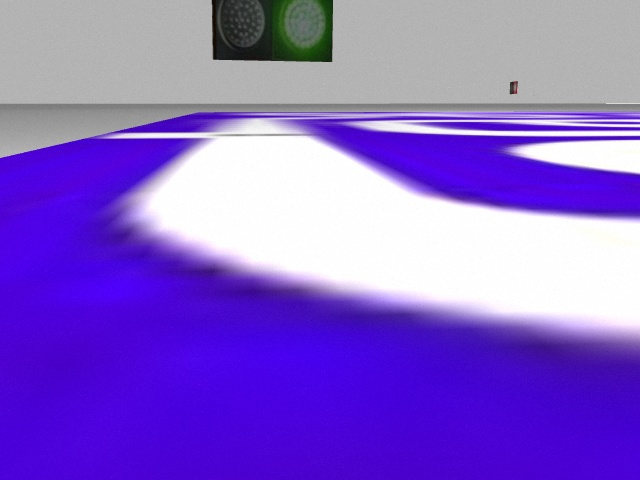green: (272, 1, 334, 59)
